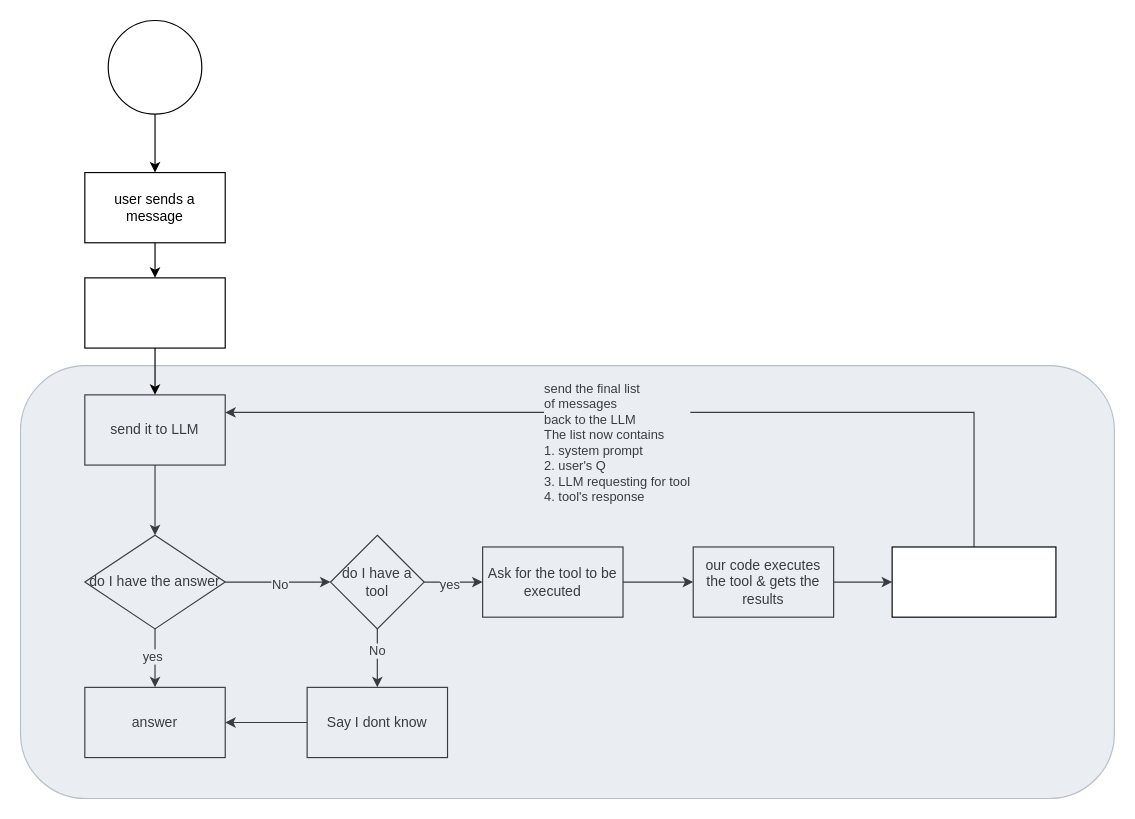
Some shapes in this 1135 by 819 pixel diagram are drawn without their labels. Here are the shapes that lost their labels. From the top down, the box of each, then its label:
(107, 19, 202, 114): Start
(84, 277, 225, 348): our code adds user's message to list of messages going to LLM
(891, 546, 1056, 617): our code adds the LLM tool request & tool's response to the list of messages
